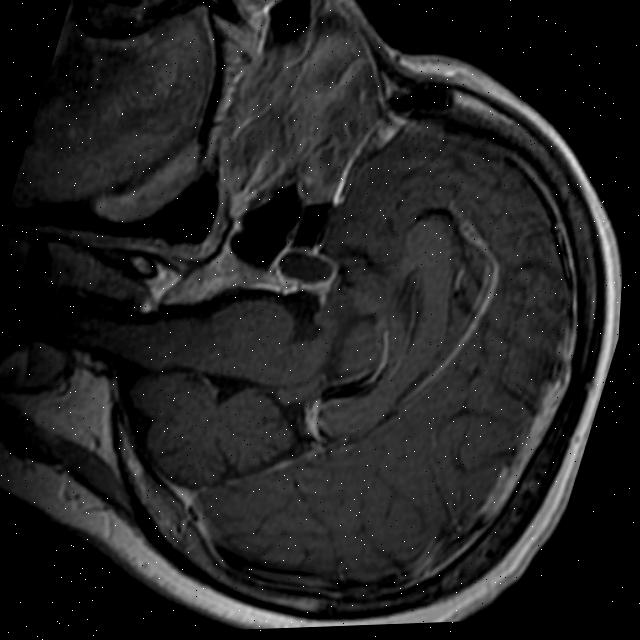Pituitary: (271, 241, 341, 295)
